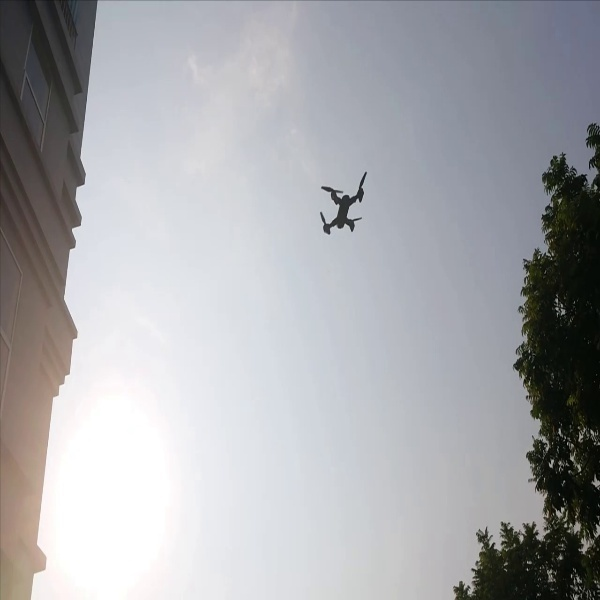drone: (308, 165, 374, 244)
